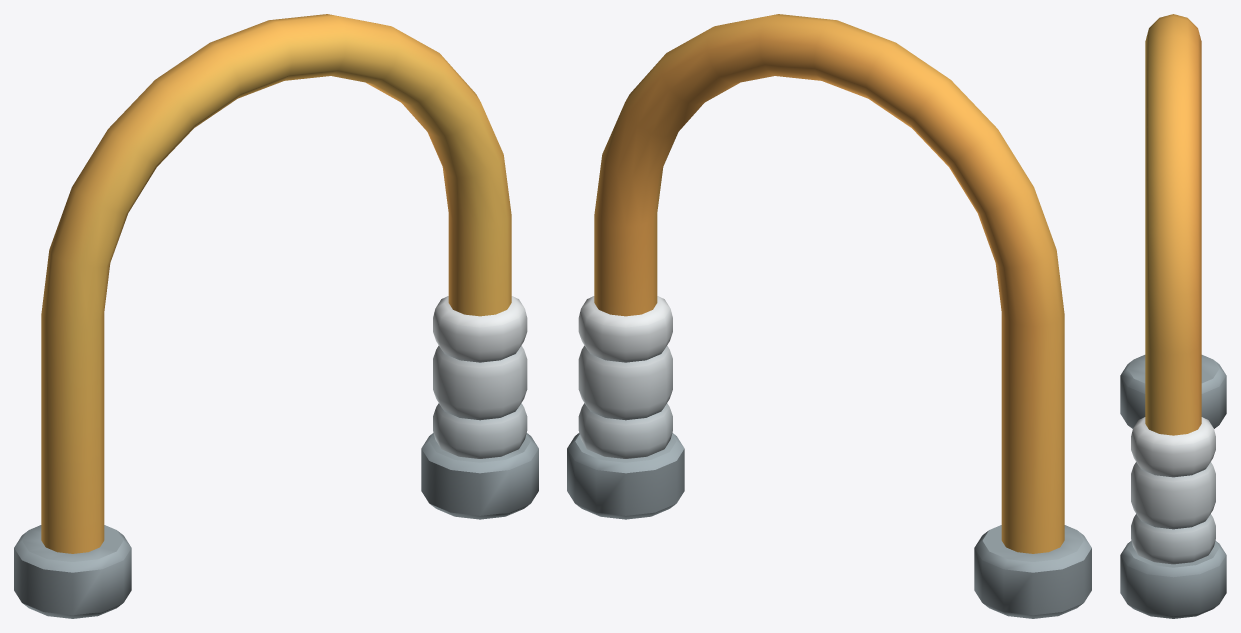
Rendered from arch_yellow.glb.
3 renders of one model, left to right at view 1: azimuth 30°, elevation 25°; view 2: azimuth 150°, elevation 25°; view 3: azimuth 270°, elevation 25°, orthographic. The views are drawn at different scales.
Visible parts, largest first — view 1: arch_yellow; view 2: arch_yellow; view 3: arch_yellow.
Part boxes in pixels (x1,y1,x2,y2): arch_yellow: [14, 14, 538, 618]; arch_yellow: [567, 14, 1091, 618]; arch_yellow: [1120, 14, 1226, 618].
Bounding box in the file's own units: 3.75 × 3.7 × 0.75.
Materials: 1 (1 with a texture image).
